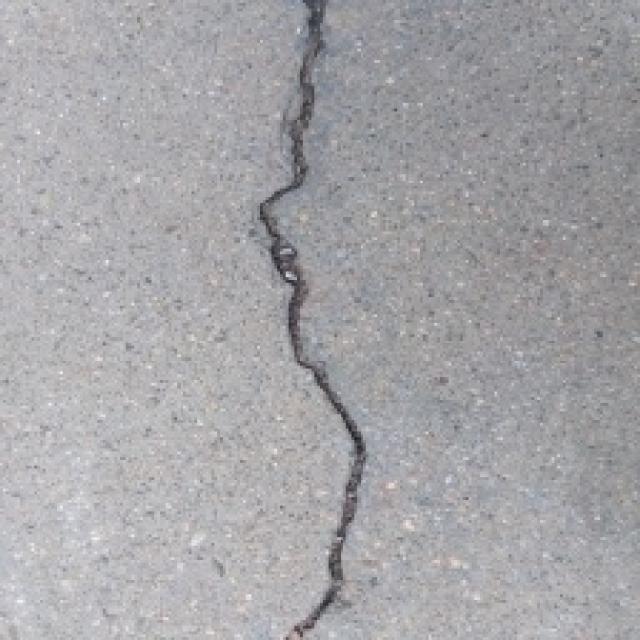crack: (202, 0, 398, 640)
